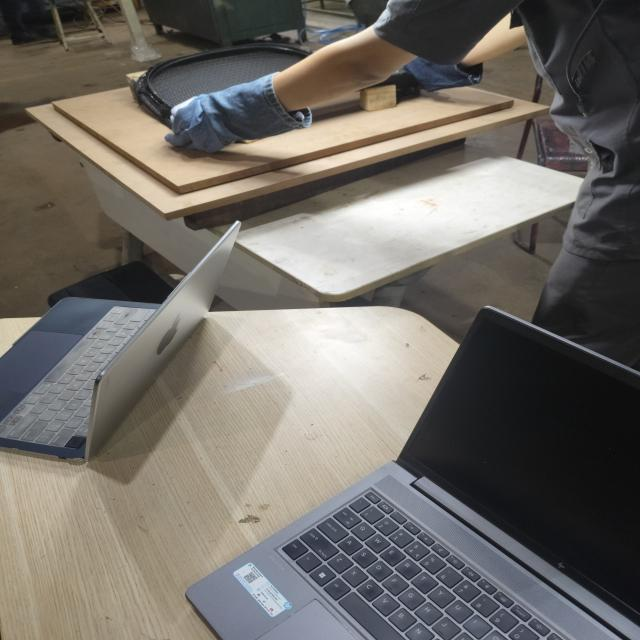Gloves-Detection: (167, 92, 309, 167)
